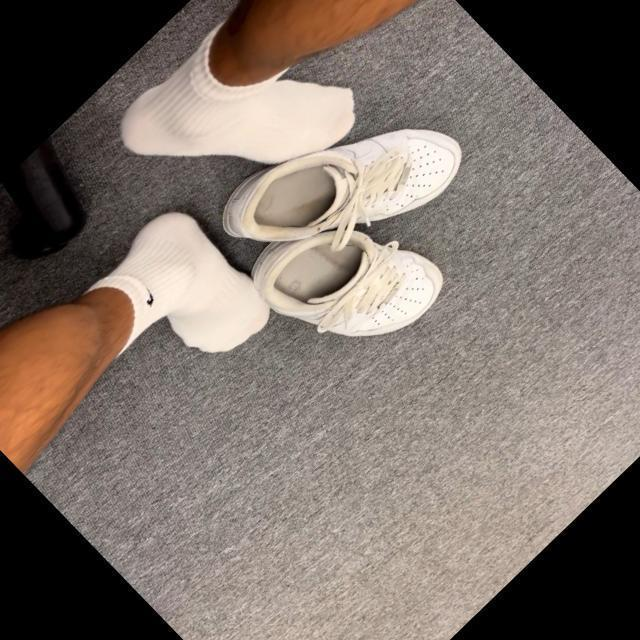nike original air force: (205, 47, 480, 320), (228, 156, 462, 390)
